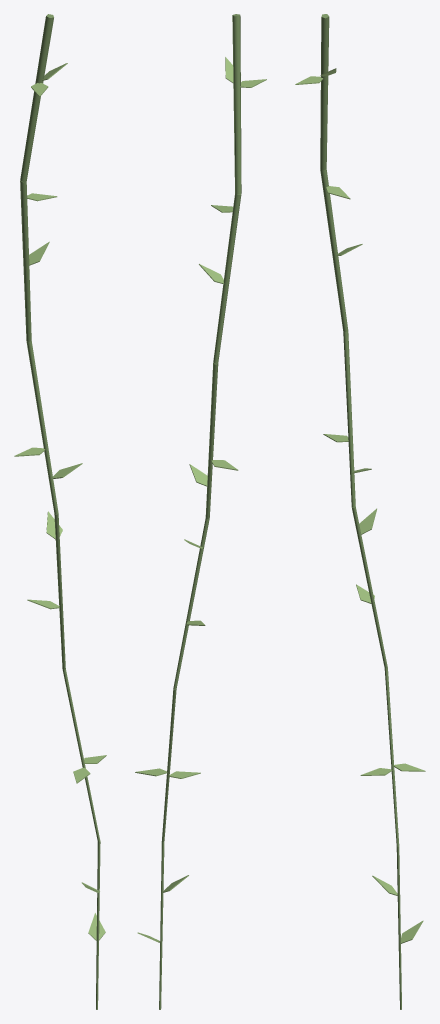
File: vine_b.glb
3 views of the same model, side by side, from view 1: azimuth 30°, elevation 25°; view 2: azimuth 150°, elevation 25°; view 3: azimuth 330°, elevation 25° (orthographic). The views are drawn at different scales.
Visible parts, largest first — view 1: vine_b; view 2: vine_b; view 3: vine_b.
Boxes of the visible parts, x1=… form: vine_b: x1=14, y1=14, x2=106, y2=1009; vine_b: x1=135, y1=14, x2=266, y2=1009; vine_b: x1=295, y1=14, x2=425, y2=1009.
Bounding box in the file's own units: 0.9304 × 9 × 0.6153.
